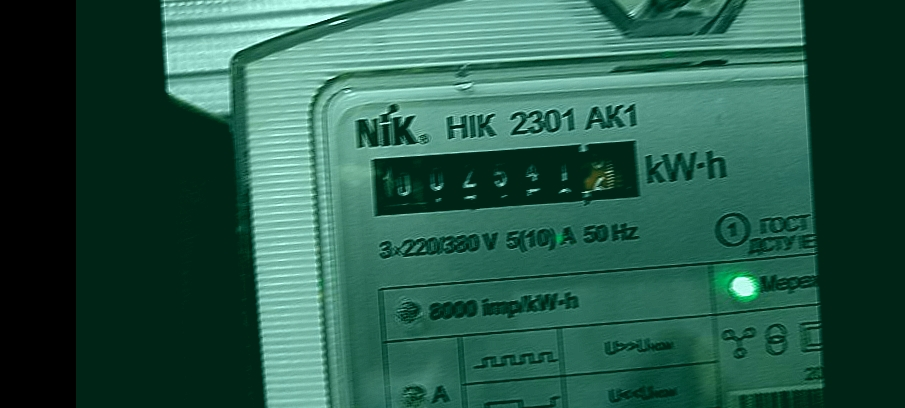0: (426, 159, 447, 193), (395, 167, 414, 197)
1: (553, 149, 571, 183)
2: (457, 156, 479, 191)
4: (522, 152, 541, 184)
5: (491, 157, 508, 190)
6: (590, 171, 607, 193)
screen: (357, 124, 661, 231)
